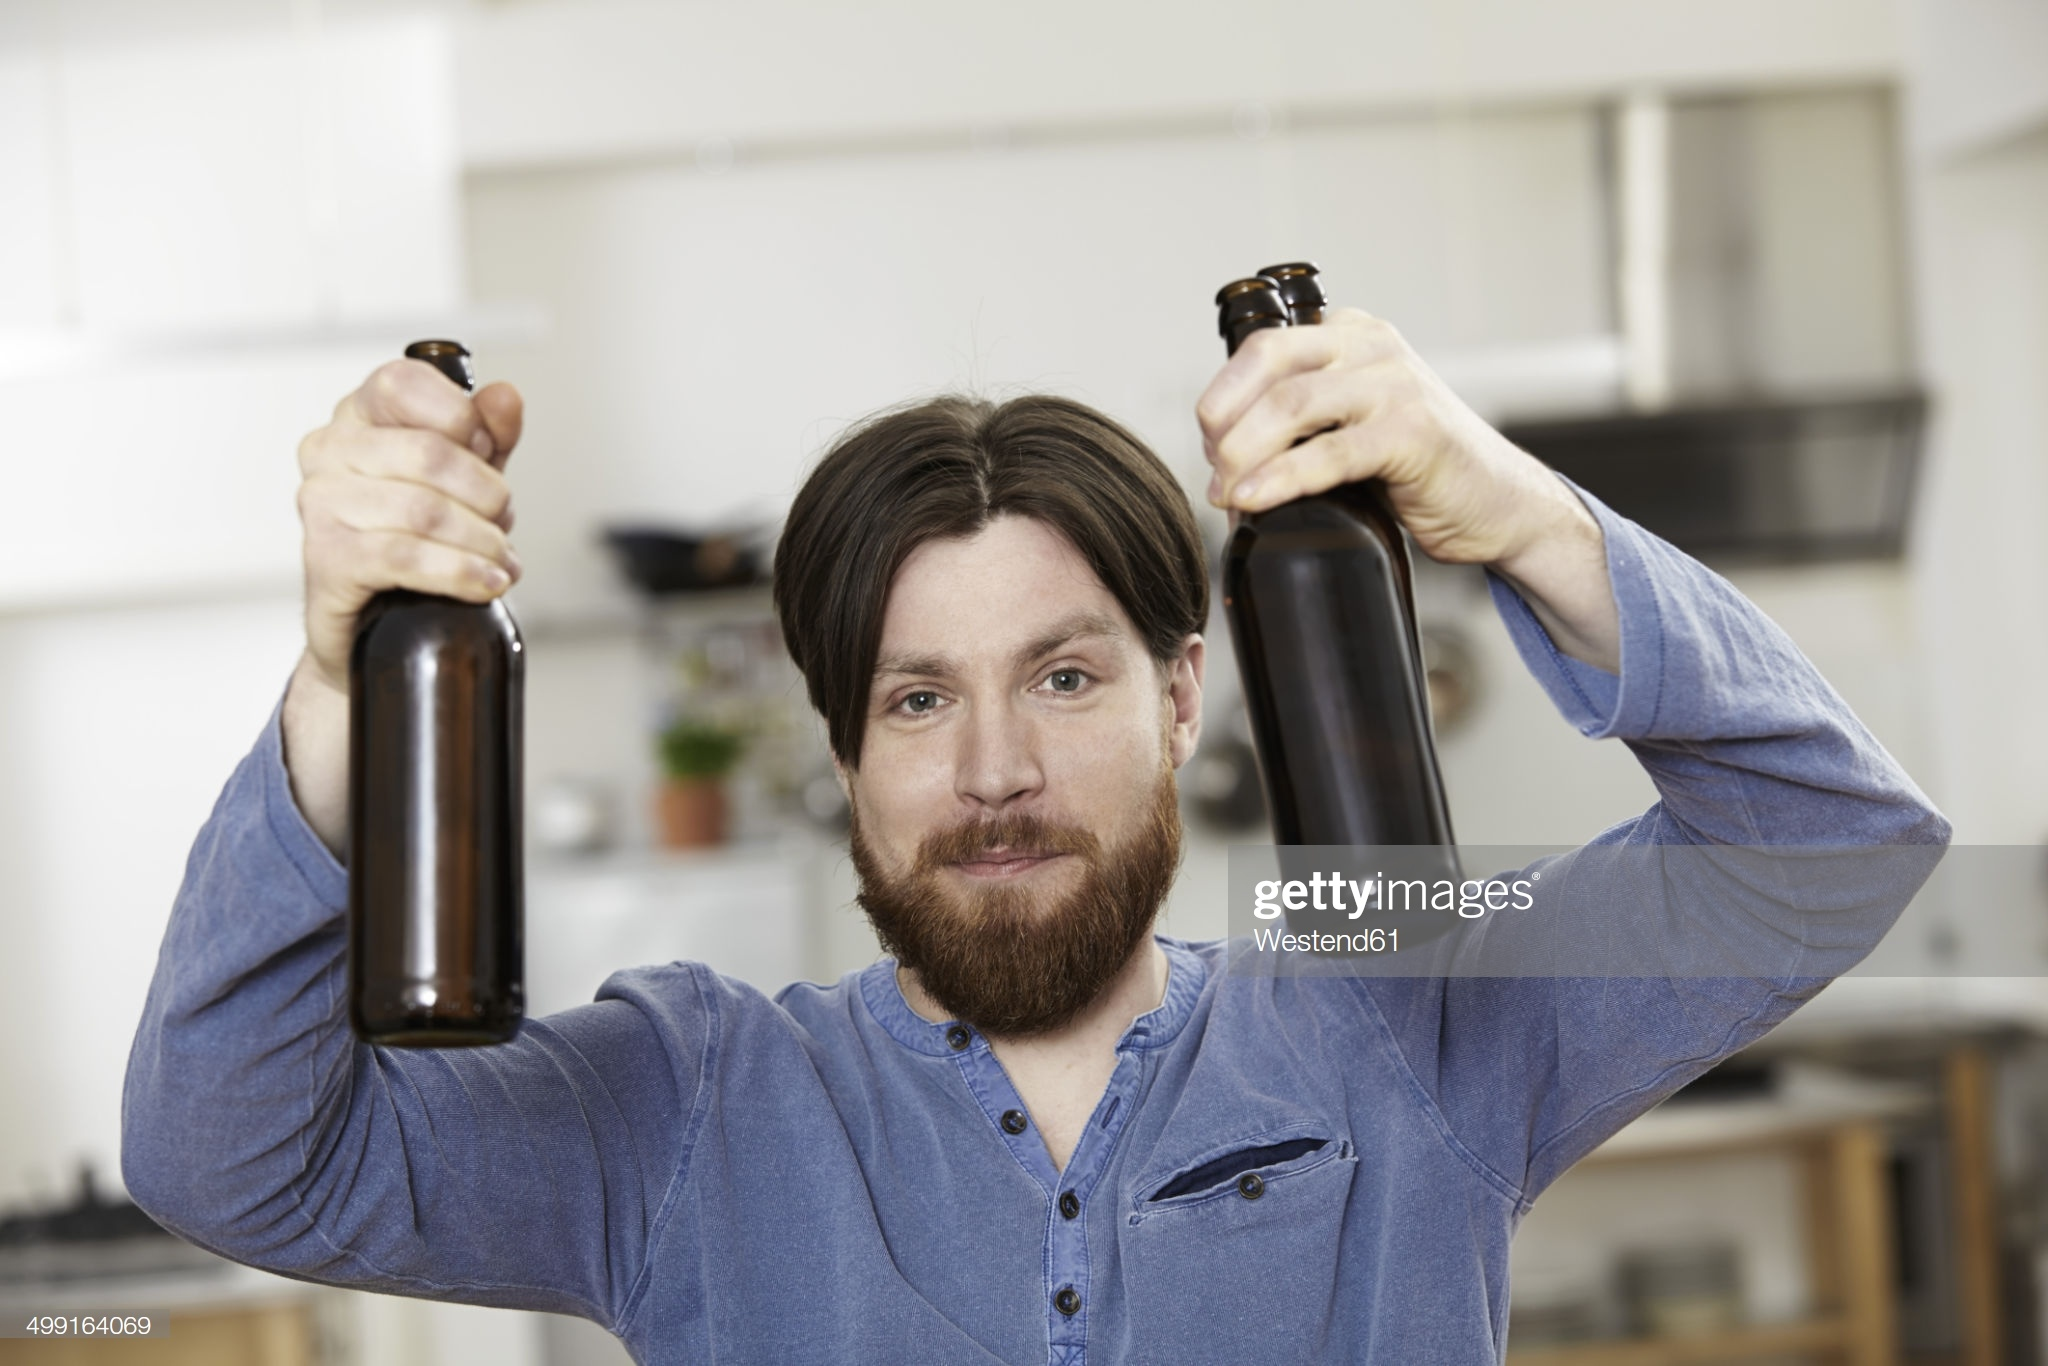beerBottle: (1211, 274, 1454, 935), (350, 341, 526, 1041)
